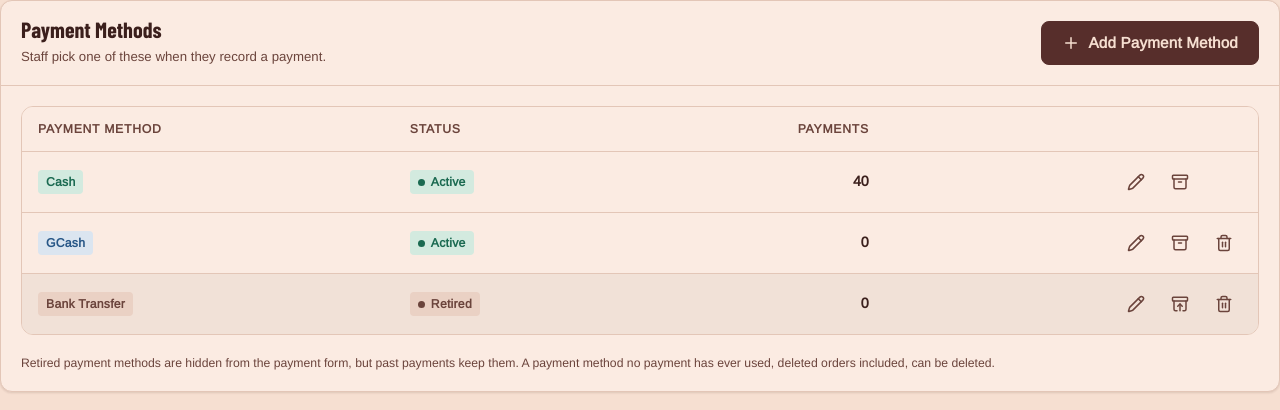
S1 list card: payment-methods › retires at once with the per-list toast, flips the row and keeps focus on the flipped action
Check: the table named "Payment methods" is shown, box [22, 107, 1258, 334]
What coordinates should you click on to do the following:
click the button named "Retire GCash"
I would click on:
 (1180, 243)
Its box is [1162, 225, 1198, 261].
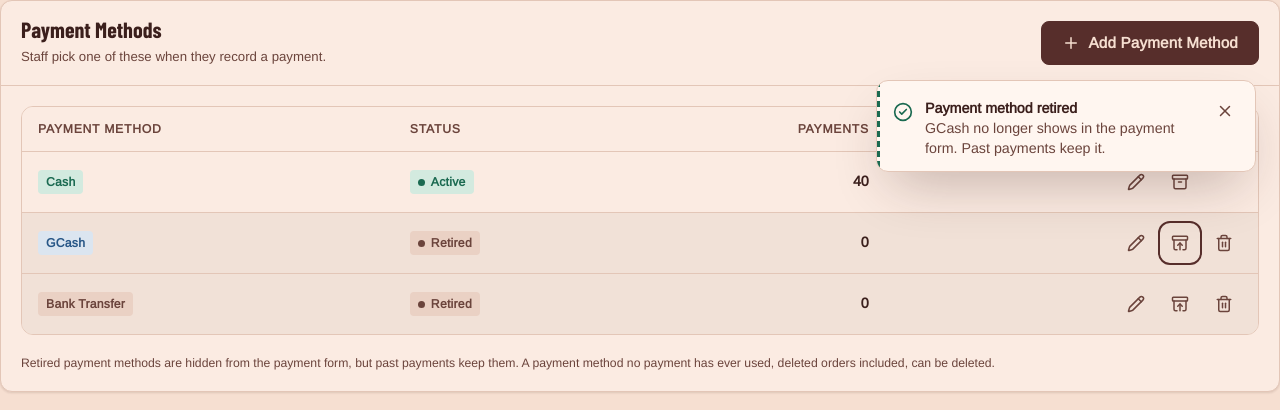
Check: the text "Retired" is shown, box [410, 231, 480, 255]
Check: the text "Payment method retired" is shown, box [925, 101, 1077, 116]
